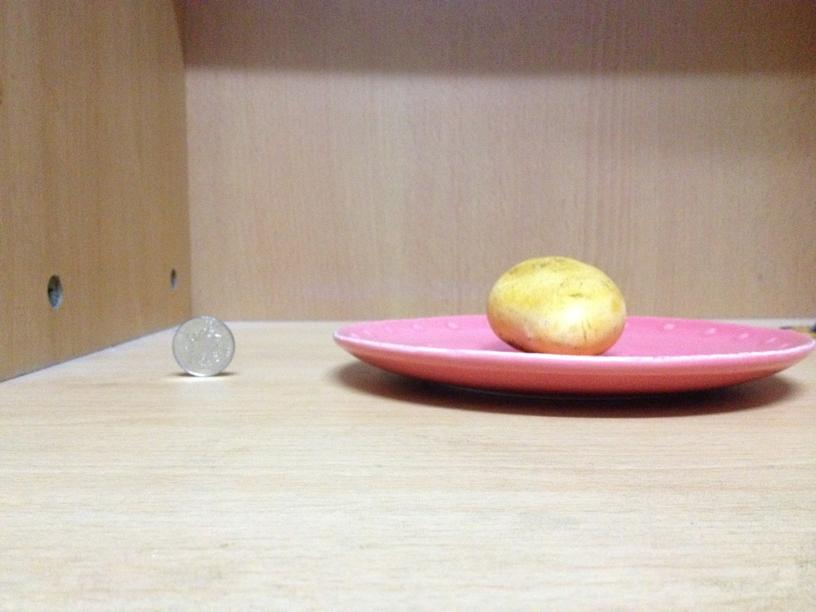coin: (171, 314, 235, 377)
mango: (486, 254, 626, 353)
